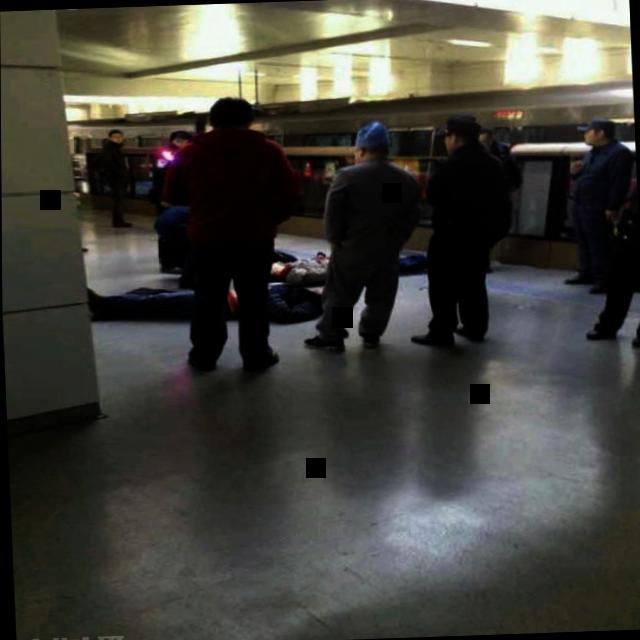Fall-Detected: (75, 240, 366, 356)
